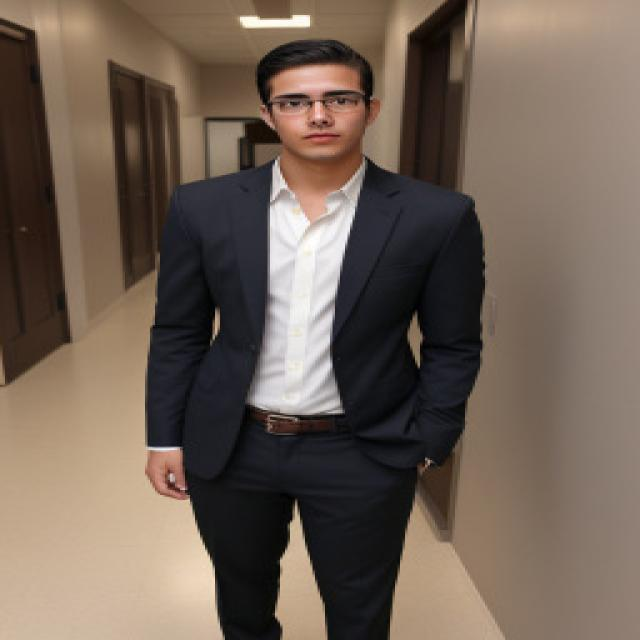Ai human 2: (130, 27, 500, 640)
